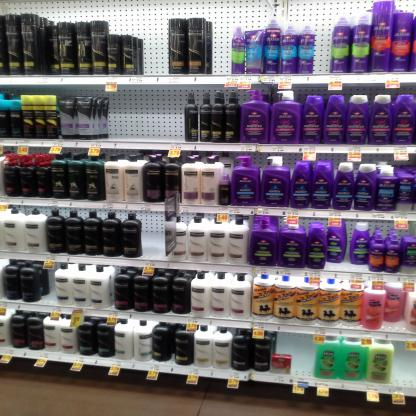Void: (110, 88, 187, 139), (142, 3, 169, 70), (213, 0, 234, 73), (394, 338, 416, 389), (317, 0, 331, 73), (278, 332, 317, 357)
